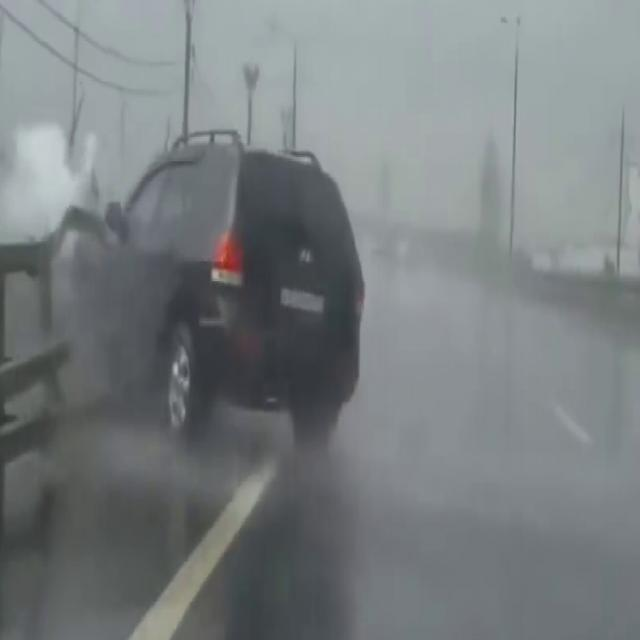accident: (52, 128, 369, 436)
